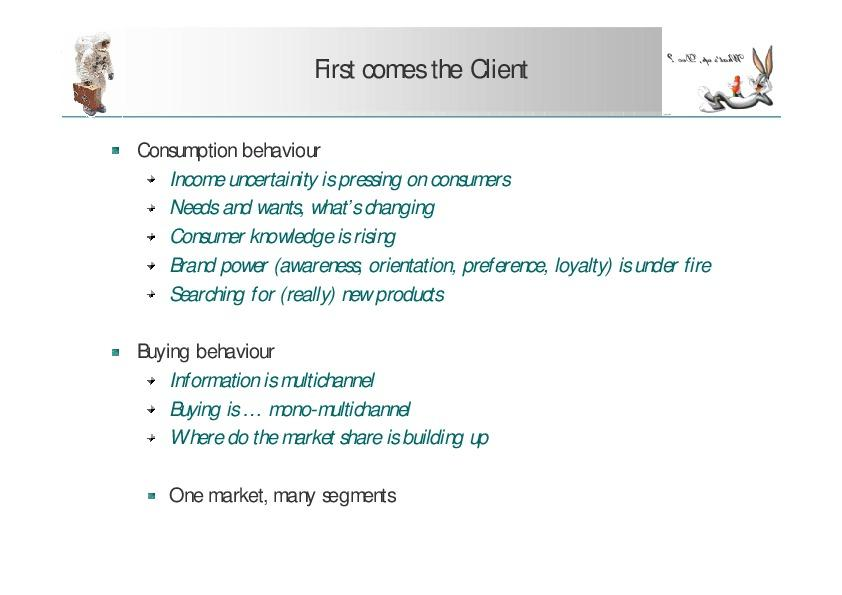paragraph: (118, 158, 842, 312), (143, 367, 730, 543)
subtitle: (136, 137, 329, 165), (126, 333, 283, 365)
title: (297, 48, 576, 94)
